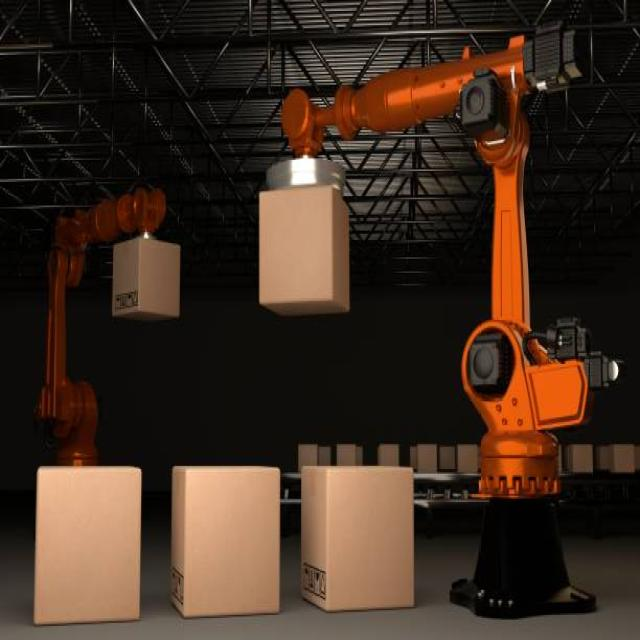Robotic-arm: (276, 27, 622, 489), (37, 179, 175, 481)
